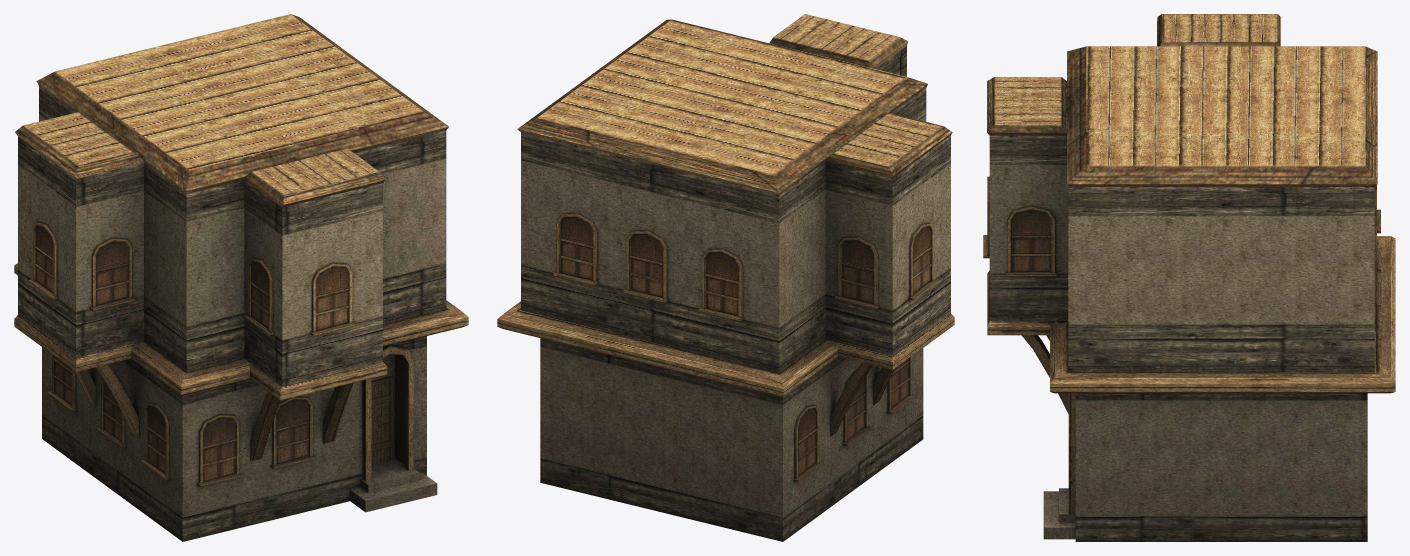
File: Building_01.fbx
3 renders of one model, left to right at view 1: azimuth 30°, elevation 25°; view 2: azimuth 150°, elevation 25°; view 3: azimuth 270°, elevation 25°, orthographic. The views are drawn at different scales.
Parts seen in each view (by area): view 1: Kleines_Haus_Jody; view 2: Kleines_Haus_Jody; view 3: Kleines_Haus_Jody.
Part boxes in pixels (x1=…): Kleines_Haus_Jody: x1=14, y1=14, x2=468, y2=541; Kleines_Haus_Jody: x1=497, y1=14, x2=954, y2=541; Kleines_Haus_Jody: x1=983, y1=14, x2=1395, y2=541.
Bounding box in the file's own units: 4.84 × 4.83 × 4.89.
